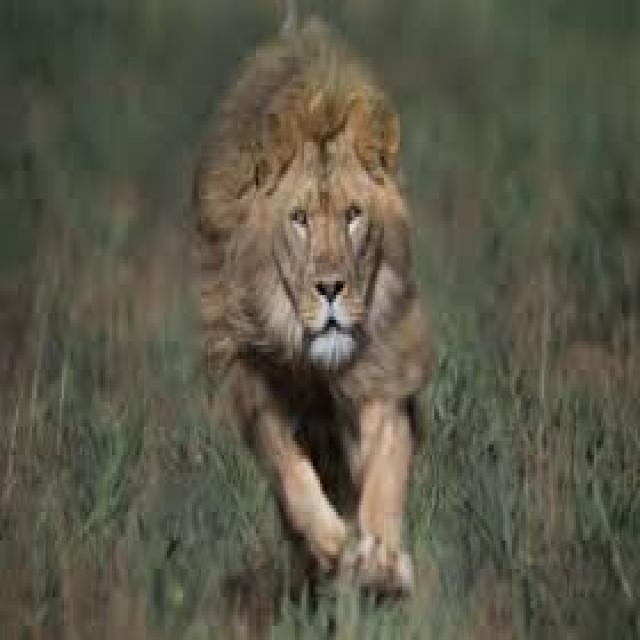Lion: (195, 23, 434, 593)
